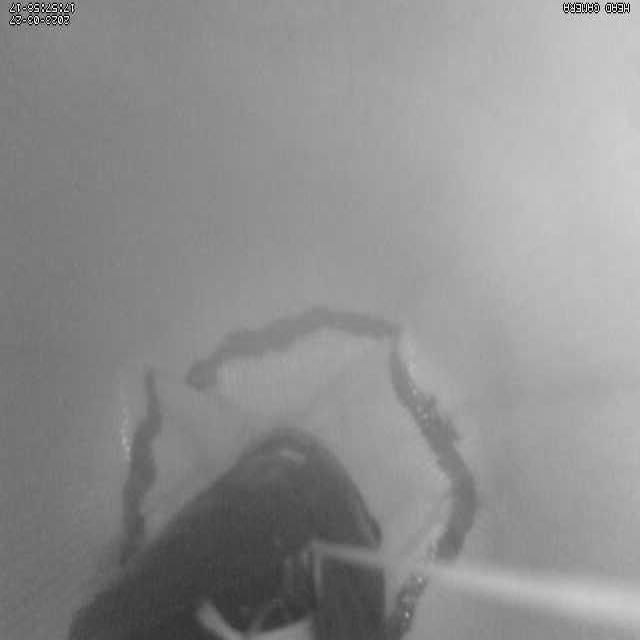red-circle: (118, 305, 478, 639)
